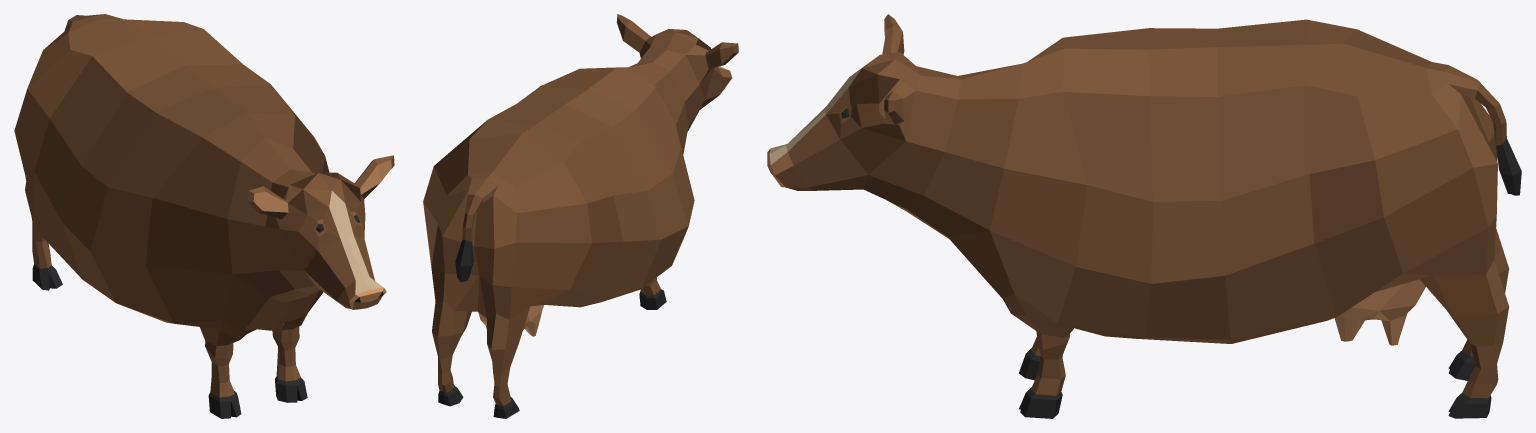
Rendered from Cow.fbx.
3 renders of one model, left to right at view 1: azimuth 30°, elevation 25°; view 2: azimuth 150°, elevation 25°; view 3: azimuth 270°, elevation 25°, orthographic. The views are drawn at different scales.
Visible parts, largest first — view 1: cow2:Mesh; view 2: cow2:Mesh; view 3: cow2:Mesh.
Part boxes in pixels (box(x1,y1,x2,y2)): cow2:Mesh: box(14, 14, 394, 418); cow2:Mesh: box(423, 14, 738, 418); cow2:Mesh: box(767, 14, 1521, 418).
Bounding box in the file's own units: 1.34 × 1.53 × 2.98.
